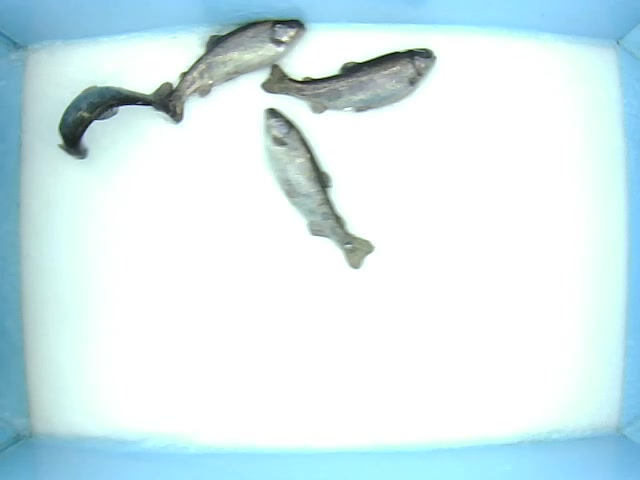fish: (260, 105, 377, 271), (151, 17, 307, 126), (260, 46, 437, 114), (56, 76, 177, 162)
